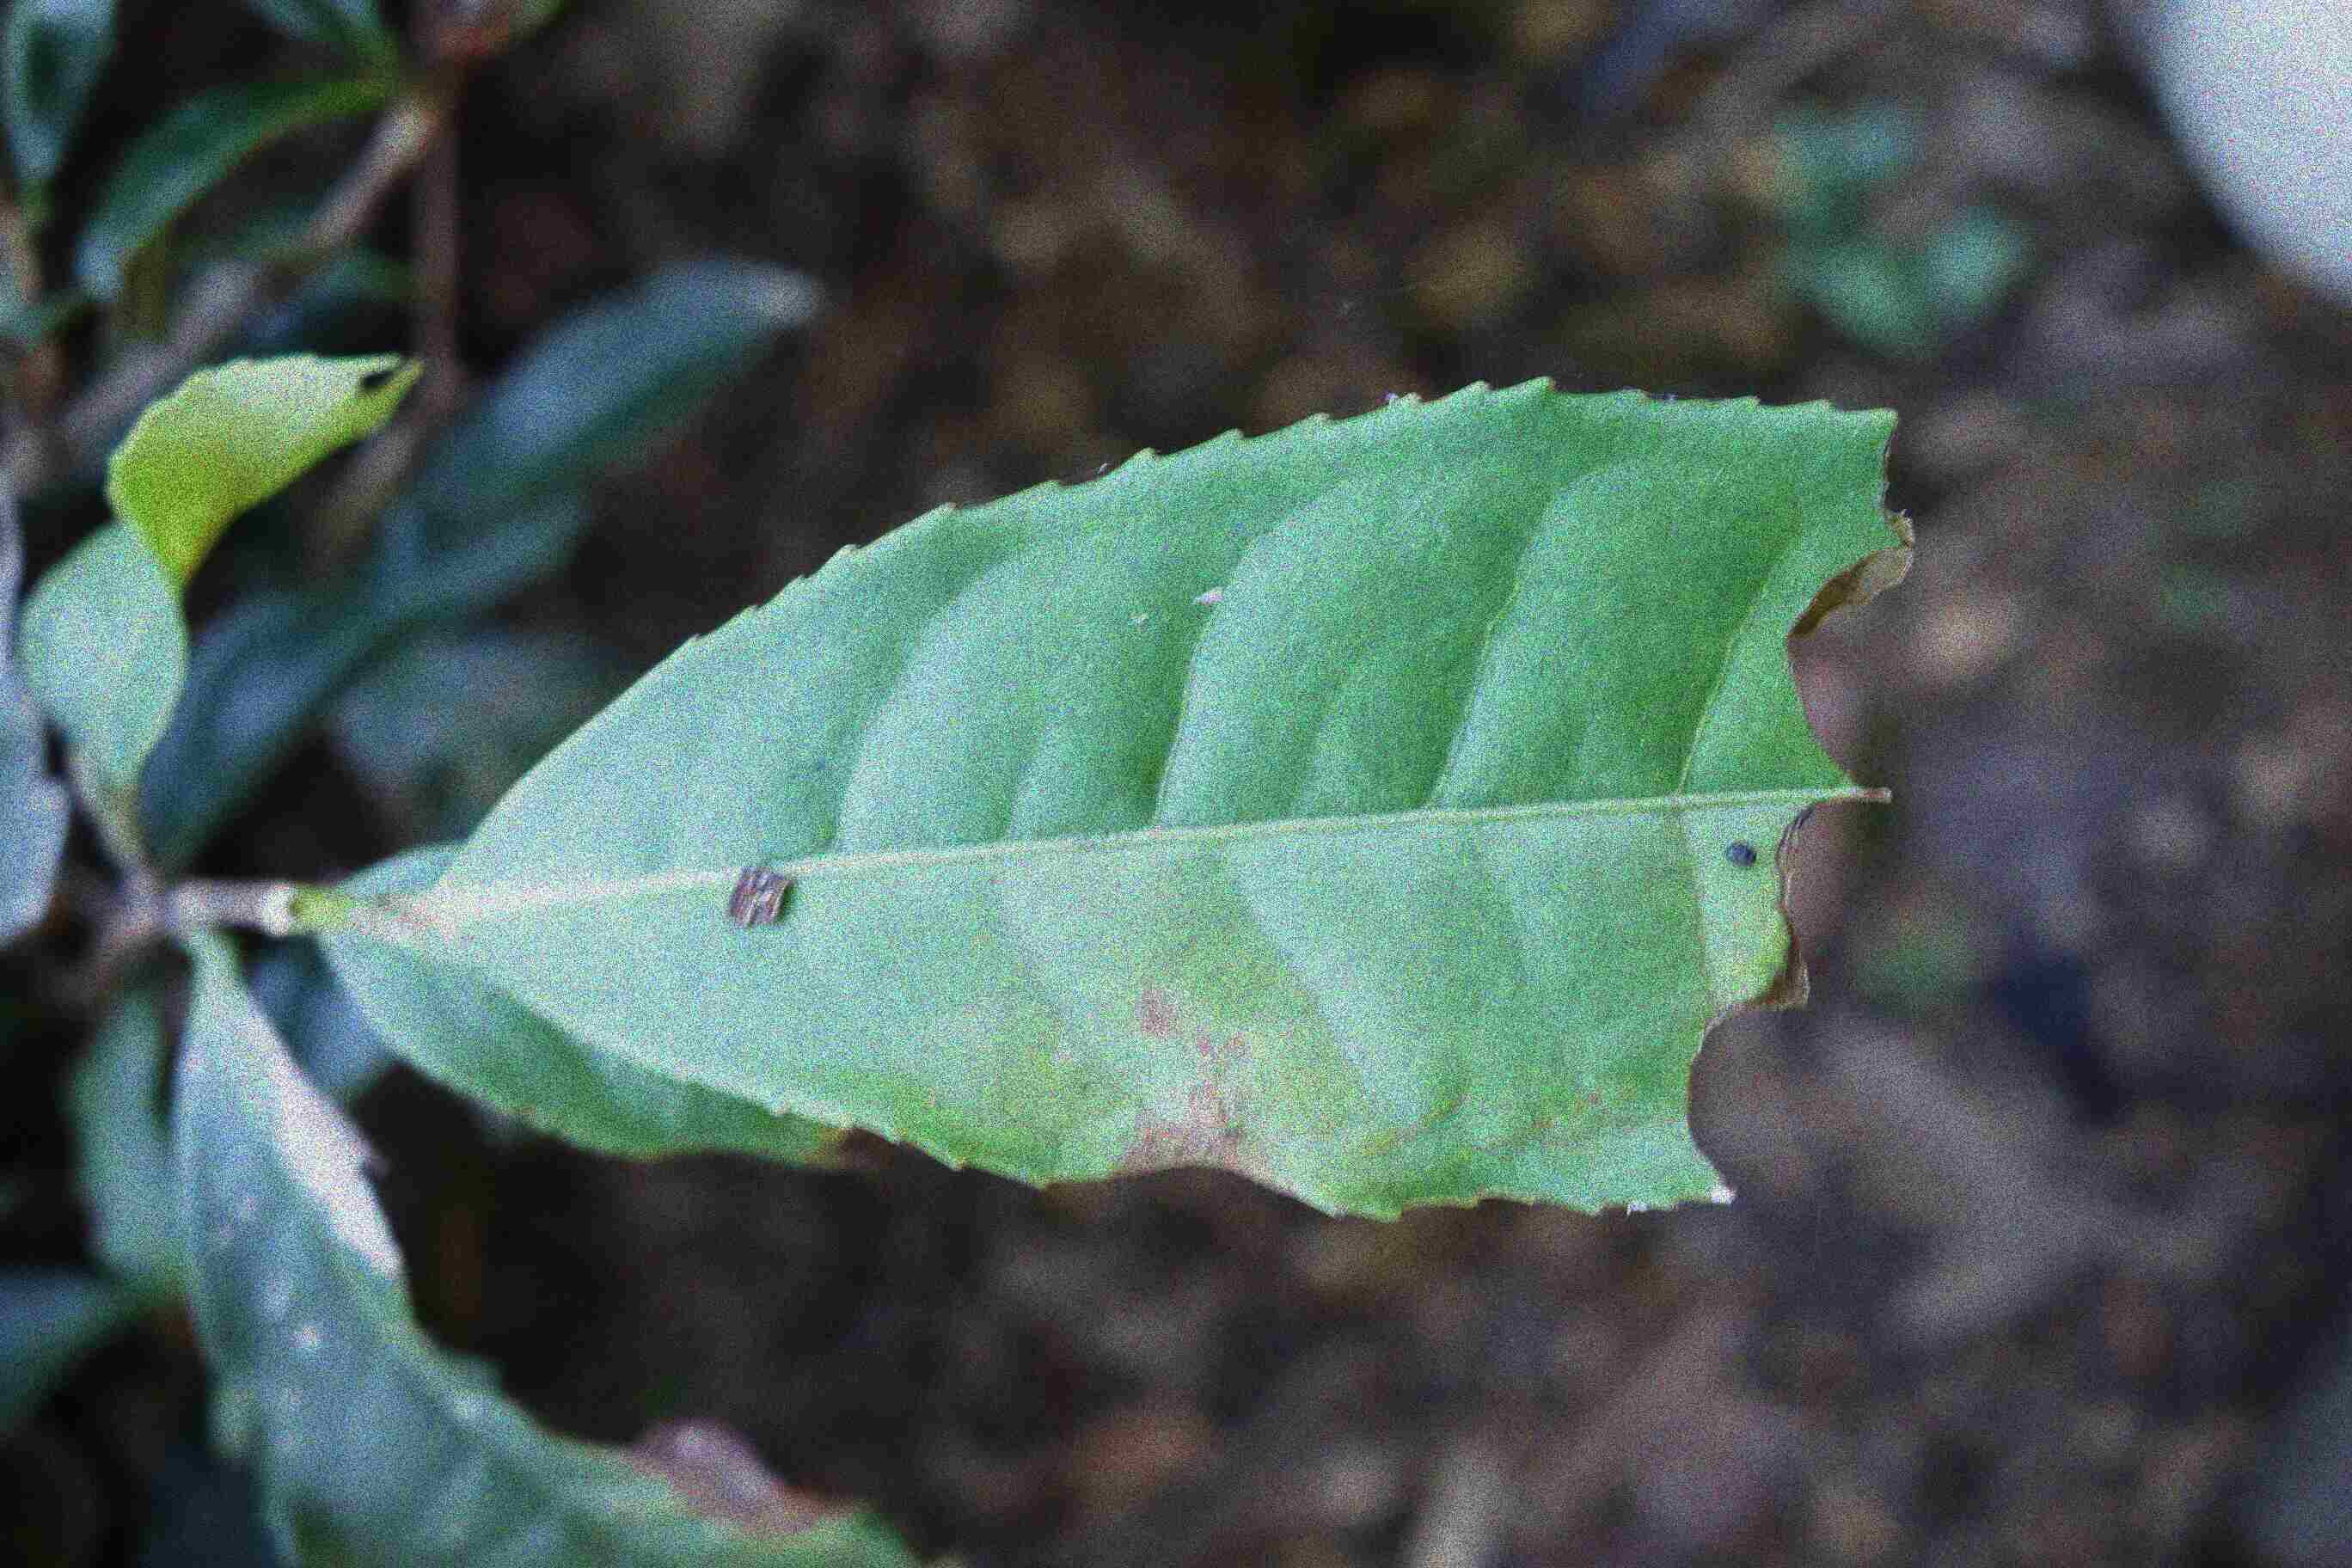chihuo_high: (430, 374, 1927, 1228)
